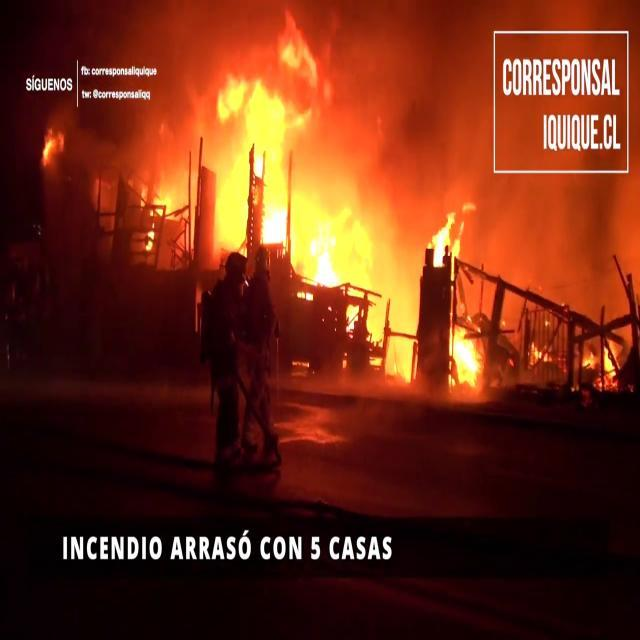Fire: (137, 22, 356, 282), (282, 170, 488, 392), (445, 319, 486, 391), (581, 320, 621, 388), (40, 124, 66, 170)
Smoke: (358, 4, 640, 301)
